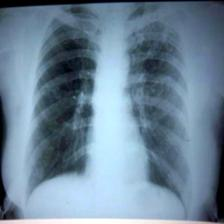tuberculosis: (21, 5, 202, 219)
